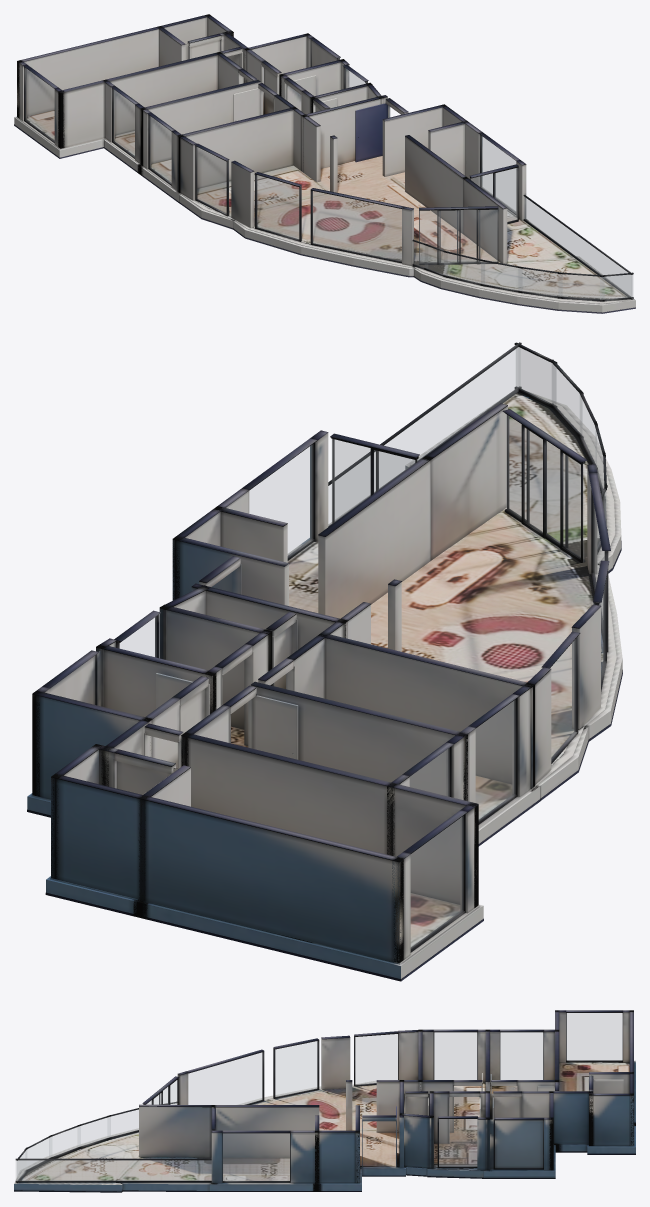
3 renders of one model, top to bottom at view 1: azimuth 30°, elevation 25°; view 2: azimuth 150°, elevation 25°; view 3: azimuth 270°, elevation 25°, orthographic. The views are drawn at different scales.
Parts seen in each view (by area): view 1: plan, glass5_m, glass6_m, railg0_m, glass4_m, glass3_m, glass7_m, glass0_m, glass8_m, glass1_m, glass2_m, railg2_m (+5 smaller); view 2: plan, railg0_m, glass6_m, glass0_m, glass7_m, glass2_m, glass8_m, glass3_m, railg1_m, railg2_m, glass1_m, glass10_m; view 3: plan, railg0_m, glass7_m, glass5_m, glass0_m, glass9_m, glass1_m, glass2_m, glass4_m, glass3_m, glass10_m, railg4_m (+4 smaller).
Boxes of the visible parts, x1=… form: plan: x1=14, y1=14, x2=635, y2=313; glass5_m: x1=312, y1=191, x2=401, y2=261; glass6_m: x1=419, y1=210, x2=497, y2=262; railg0_m: x1=524, y1=197, x2=632, y2=297; glass4_m: x1=257, y1=175, x2=298, y2=239; glass3_m: x1=196, y1=147, x2=226, y2=213; glass7_m: x1=481, y1=136, x2=515, y2=212; glass0_m: x1=25, y1=68, x2=54, y2=140; glass8_m: x1=470, y1=168, x2=517, y2=221; glass1_m: x1=113, y1=89, x2=134, y2=156; glass2_m: x1=150, y1=116, x2=171, y2=182; railg2_m: x1=558, y1=274, x2=604, y2=299; plan: x1=27, y1=342, x2=622, y2=981; railg0_m: x1=328, y1=347, x2=519, y2=526; glass6_m: x1=506, y1=414, x2=583, y2=559; glass0_m: x1=411, y1=816, x2=463, y2=948; glass7_m: x1=249, y1=444, x2=312, y2=556; glass2_m: x1=476, y1=700, x2=515, y2=820; glass8_m: x1=332, y1=439, x2=417, y2=523; glass3_m: x1=550, y1=639, x2=575, y2=758; railg1_m: x1=516, y1=347, x2=555, y2=405; railg2_m: x1=552, y1=363, x2=581, y2=435; glass1_m: x1=410, y1=748, x2=449, y2=796; glass10_m: x1=120, y1=617, x2=156, y2=656; plan: x1=14, y1=1010, x2=635, y2=1192; railg0_m: x1=16, y1=1160, x2=211, y2=1180; glass7_m: x1=223, y1=1133, x2=289, y2=1180; glass5_m: x1=188, y1=1052, x2=262, y2=1104; glass0_m: x1=567, y1=1013, x2=622, y2=1060; glass9_m: x1=495, y1=1121, x2=542, y2=1167; glass1_m: x1=500, y1=1032, x2=542, y2=1079; glass2_m: x1=434, y1=1032, x2=476, y2=1079; glass4_m: x1=275, y1=1041, x2=317, y2=1096; glass3_m: x1=355, y1=1034, x2=397, y2=1084; glass10_m: x1=439, y1=1119, x2=476, y2=1166; railg4_m: x1=78, y1=1117, x2=110, y2=1146.
Size of the model in its own units: 11.91 by 2.62 by 25.15.
2 materials, 1 textured.
